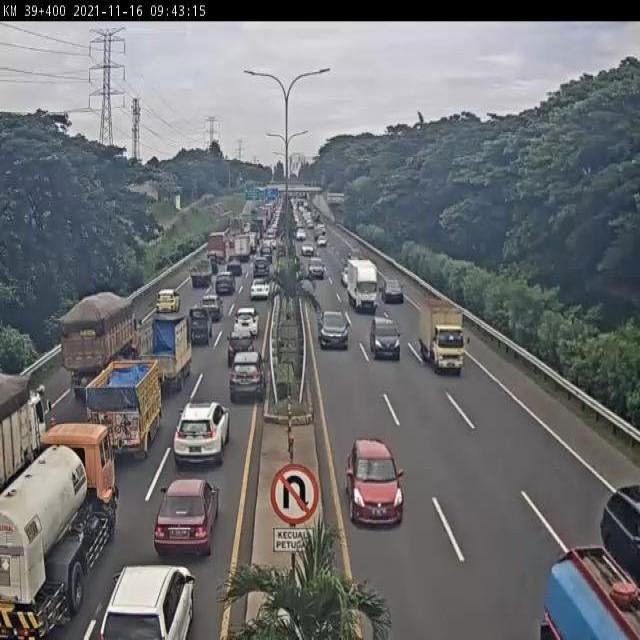car: (102, 565, 193, 640), (347, 437, 404, 527), (155, 480, 218, 557), (172, 400, 231, 468), (228, 351, 266, 404), (370, 314, 400, 358), (226, 327, 255, 368), (319, 310, 348, 350), (186, 306, 213, 342), (233, 306, 259, 338), (189, 259, 213, 288), (381, 279, 405, 305), (198, 295, 222, 321), (156, 288, 180, 313), (213, 272, 236, 296), (250, 276, 272, 300)
small truck: (418, 296, 465, 372)
truck-l-: (0, 424, 118, 640), (62, 292, 140, 396), (0, 376, 45, 501)
truck-m-: (87, 363, 161, 461), (138, 312, 192, 389), (347, 258, 378, 310)
